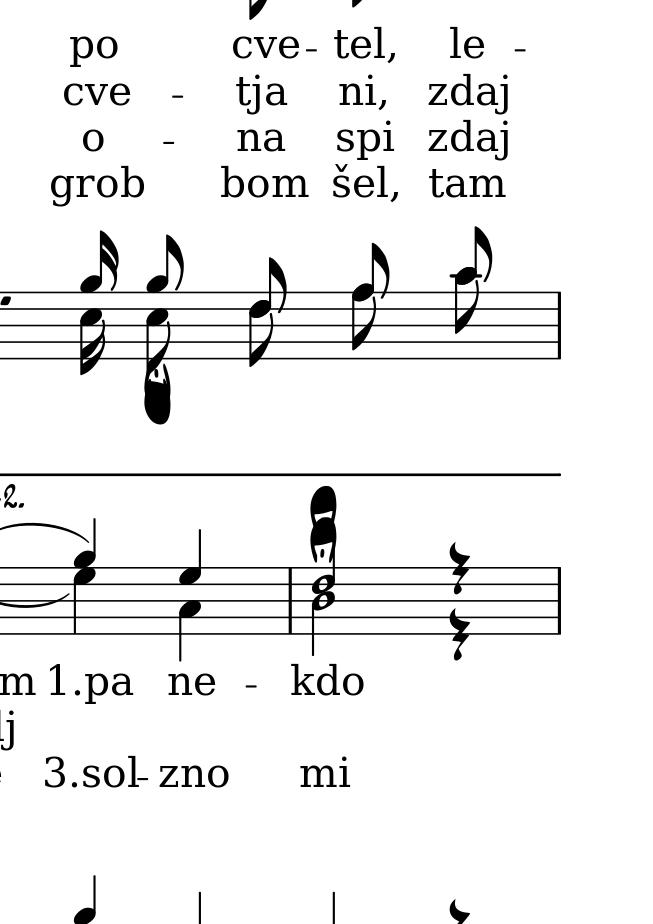4_7_9: (72, 520, 98, 635)
Rests4: (447, 606, 473, 668), (443, 536, 467, 597)
Single_barline: (550, 292, 567, 358), (283, 568, 298, 634)
